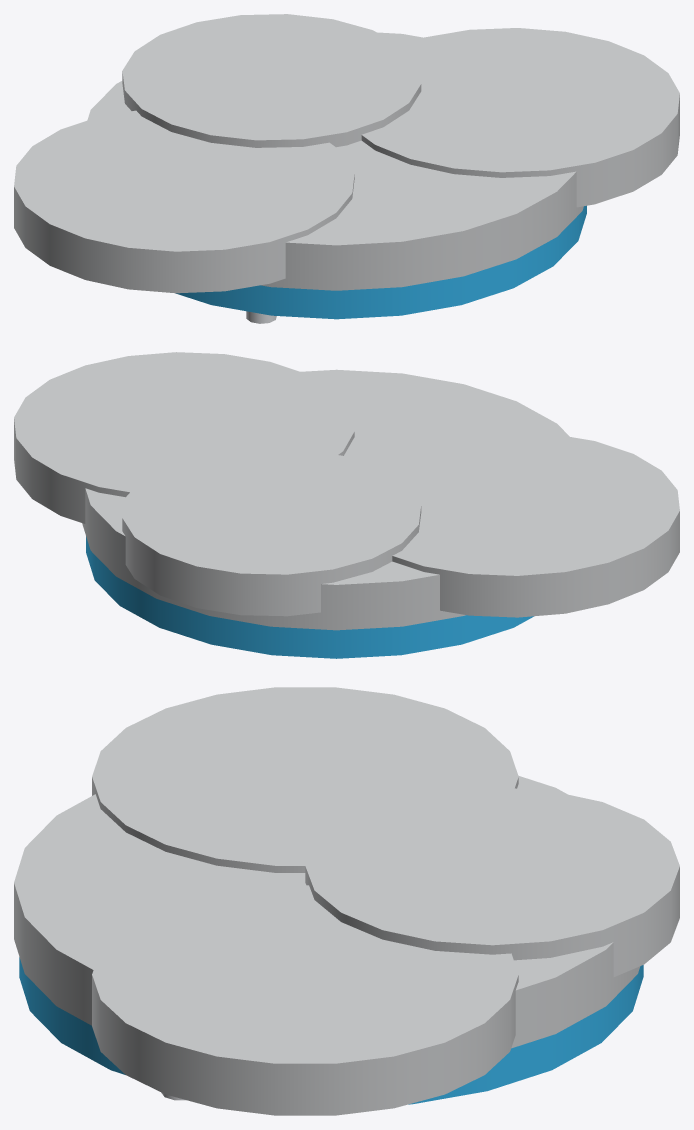
Rendered from toy_cloud_bounce_pad.glb.
3 renders of one model, top to bottom at view 1: azimuth 30°, elevation 25°; view 2: azimuth 150°, elevation 25°; view 3: azimuth 270°, elevation 25°, orthographic. The views are drawn at different scales.
Parts seen in each view (by area): view 1: solid_2, solid_3, solid_4, solid_1, solid_5; view 2: solid_2, solid_4, solid_3, solid_1, solid_5; view 3: solid_3, solid_4, solid_2, solid_1, solid_5.
Part boxes in pixels (<box>): solid_2: <box>14,110,354,293</box>; solid_3: <box>361,28,679,207</box>; solid_4: <box>122,14,421,147</box>; solid_1: <box>87,32,583,290</box>; solid_5: <box>175,205,586,319</box>; solid_2: <box>369,431,679,617</box>; solid_4: <box>122,448,421,616</box>; solid_3: <box>14,352,354,523</box>; solid_1: <box>82,369,569,630</box>; solid_5: <box>86,536,533,658</box>; solid_3: <box>92,885,518,1115</box>; solid_4: <box>305,787,679,976</box>; solid_2: <box>92,687,518,872</box>; solid_1: <box>14,775,640,1048</box>; solid_5: <box>19,957,643,1104</box>.
Size of the model in its own units: 3.42 by 0.61 by 2.56.
